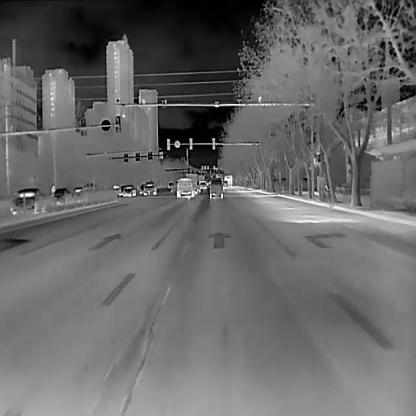car: (9, 187, 46, 213), (175, 177, 194, 199), (208, 176, 224, 198), (51, 187, 73, 203), (142, 180, 156, 196), (121, 184, 134, 196)
